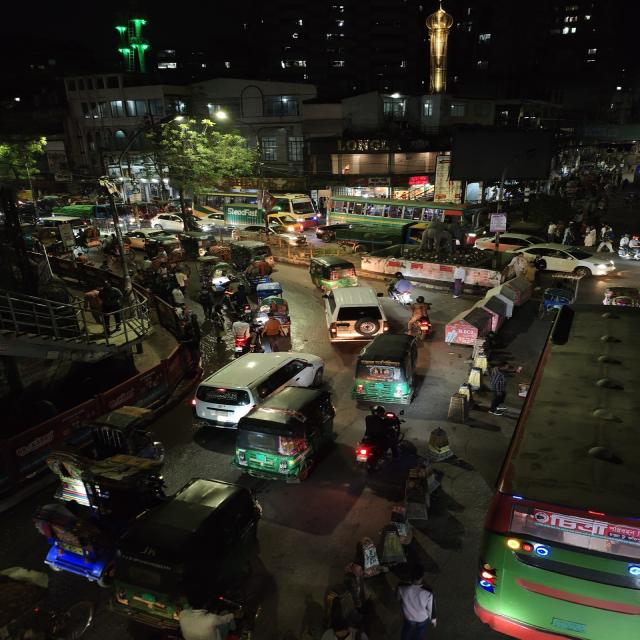bus: (476, 290, 640, 640), (324, 195, 461, 232)
car: (187, 349, 322, 428), (318, 286, 389, 341), (518, 242, 619, 278), (122, 229, 186, 253), (478, 230, 539, 254), (152, 213, 197, 233)
cng: (107, 476, 269, 634), (234, 387, 337, 483), (347, 332, 424, 412), (307, 256, 360, 289), (142, 236, 182, 262), (188, 232, 216, 252)
motorcycle: (350, 408, 409, 476), (405, 296, 435, 338), (225, 317, 257, 354), (386, 270, 415, 304)
pedestrian: (390, 569, 441, 640), (227, 316, 254, 353), (196, 285, 215, 315), (598, 227, 616, 254), (616, 234, 632, 259)
pickup_van: (334, 222, 425, 249)
rickshaw: (39, 419, 170, 502), (28, 507, 114, 581), (538, 276, 580, 314), (250, 268, 282, 302), (265, 298, 294, 334), (199, 259, 234, 288), (76, 228, 106, 254), (244, 259, 276, 281), (200, 242, 233, 262)
truck: (220, 204, 305, 234)
